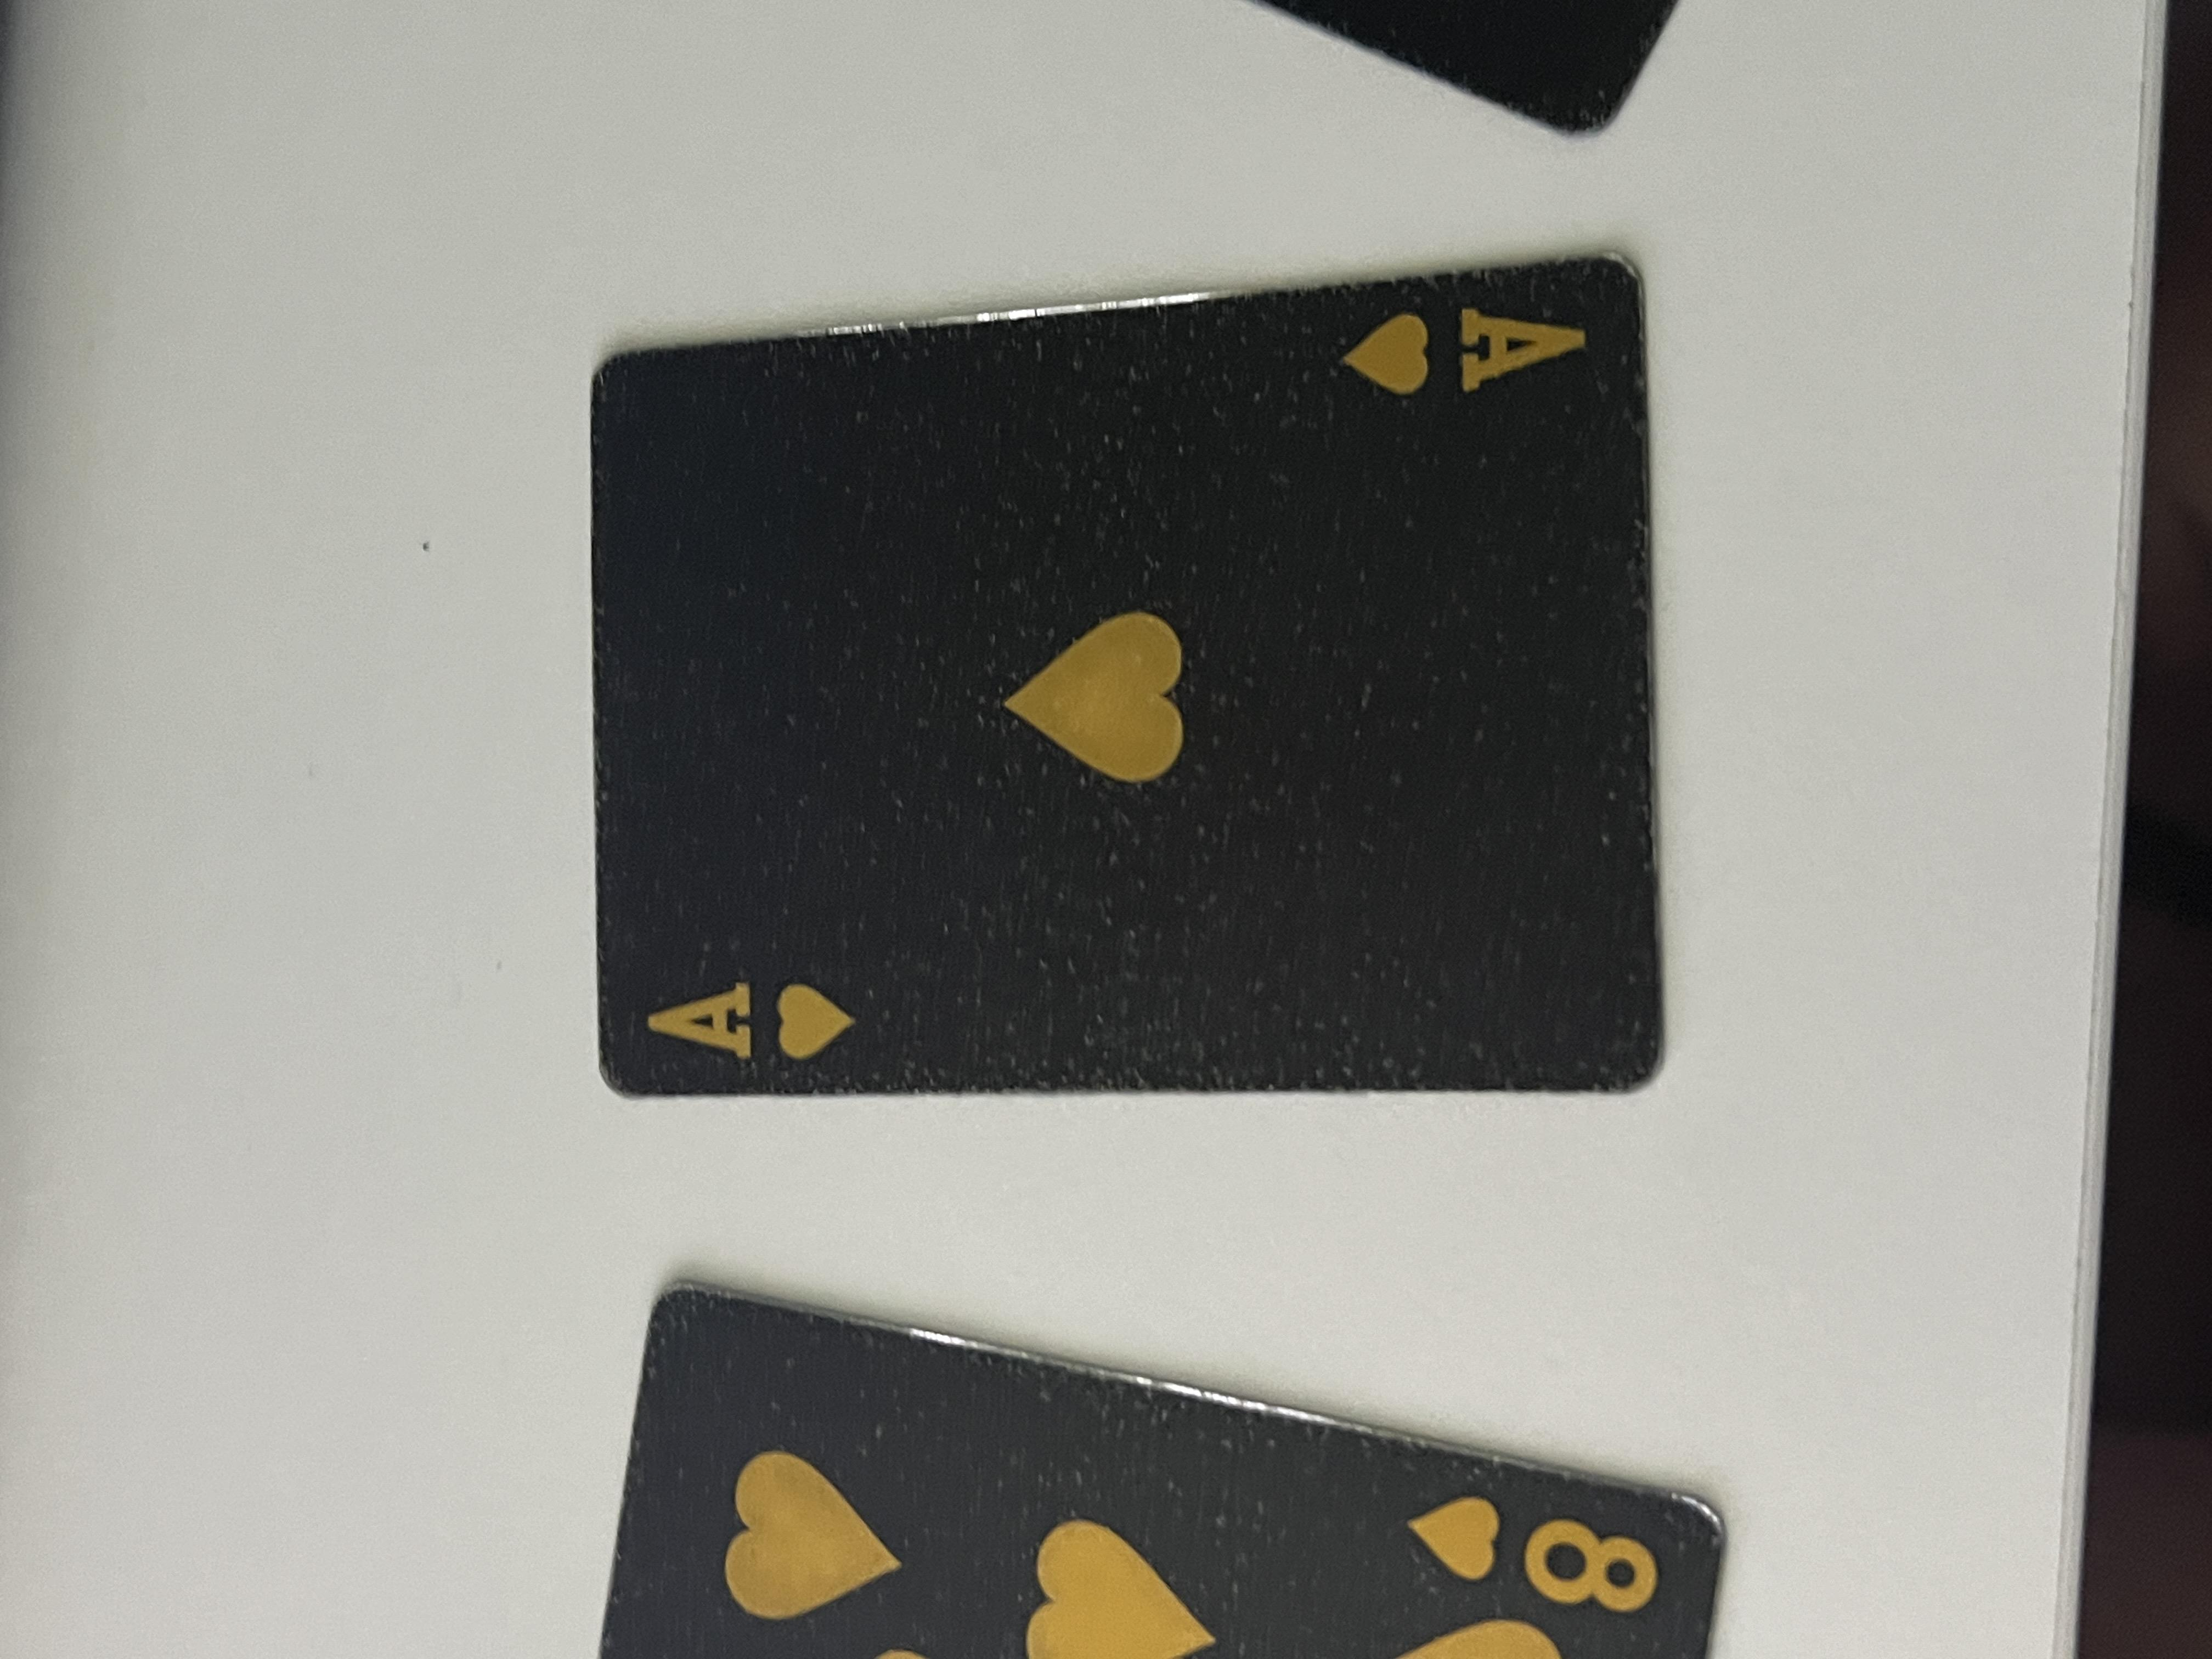8H: (47, 1040, 233, 1253)
AH: (1646, 1000, 1829, 1208), (754, 469, 944, 652)
